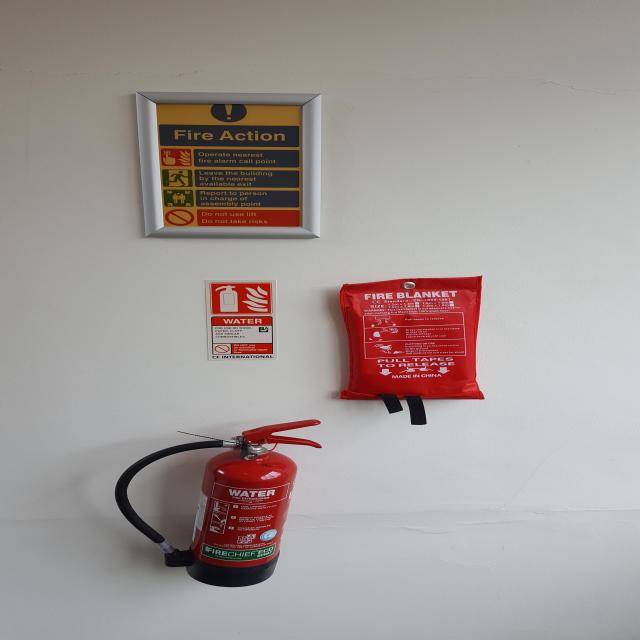fire_extinguisher: (112, 416, 326, 592)
